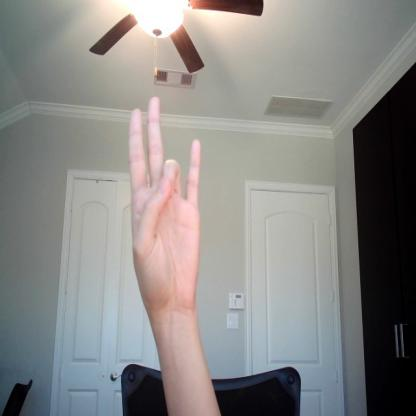seven: (128, 88, 210, 316)
